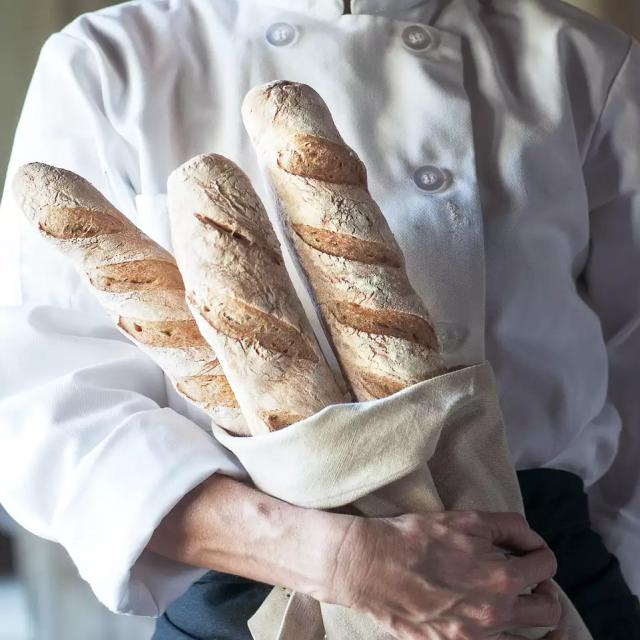Baguette: (242, 81, 448, 401), (13, 162, 246, 434), (167, 154, 350, 436)
